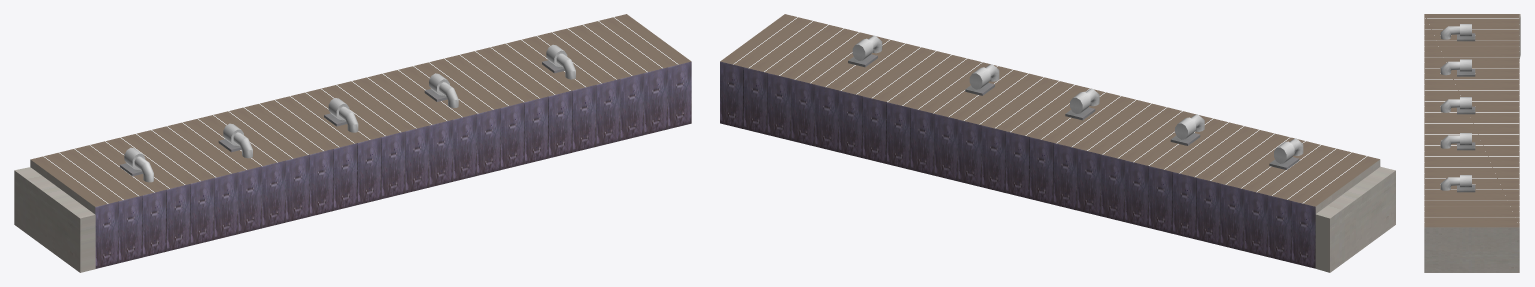
3 renders of one model, left to right at view 1: azimuth 30°, elevation 25°; view 2: azimuth 150°, elevation 25°; view 3: azimuth 270°, elevation 25°, orthographic. The views are drawn at different scales.
Visible parts, largest first — view 1: 500qinxiji001; view 2: 500qinxiji001; view 3: 500qinxiji001.
Boxes of the visible parts, box(x1,y1,x2,y2) form: 500qinxiji001: box(14, 14, 691, 272); 500qinxiji001: box(720, 14, 1395, 272); 500qinxiji001: box(1424, 14, 1520, 272).
Size of the model in its own units: 33.05 by 4.19 by 6.17.
Materials: 5 (5 with a texture image).
